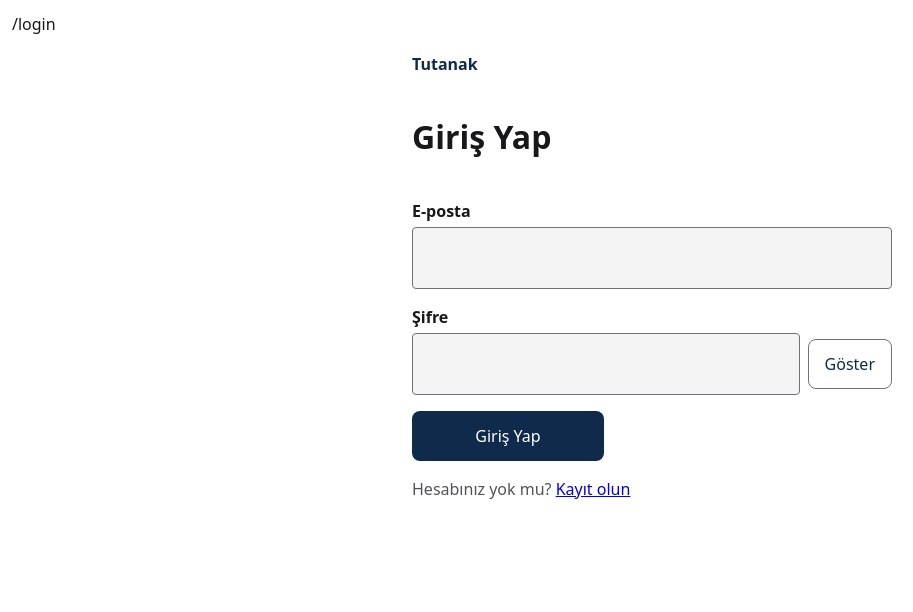
Scenario: LoginPage › hata durumlari (kriter 3-4) › 401 INVALID_CREDENTIALS icin form-genel banner gosterir
The width and height of the screenshot is (913, 612).
Type "selin@ornek.com" into the field labelled "E-posta". click: (652, 258)
box: top-left (412, 227), bottom-right (892, 289)
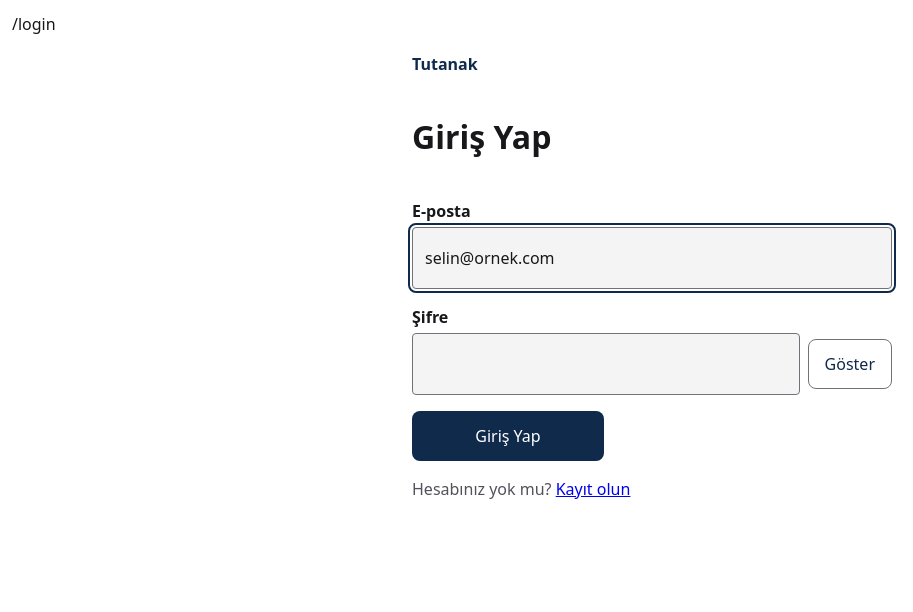
Type "cok-gizli-8" into the password field labelled "Şifre". click: (606, 364)
box: top-left (412, 333), bottom-right (800, 395)
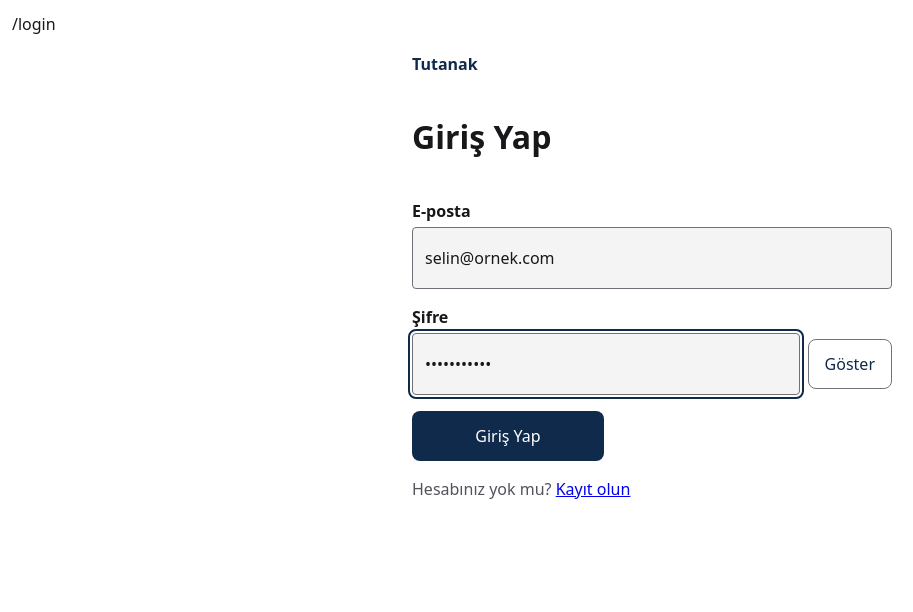
Click the button "Giriş Yap". click: (508, 436)
box: top-left (412, 411), bottom-right (604, 461)
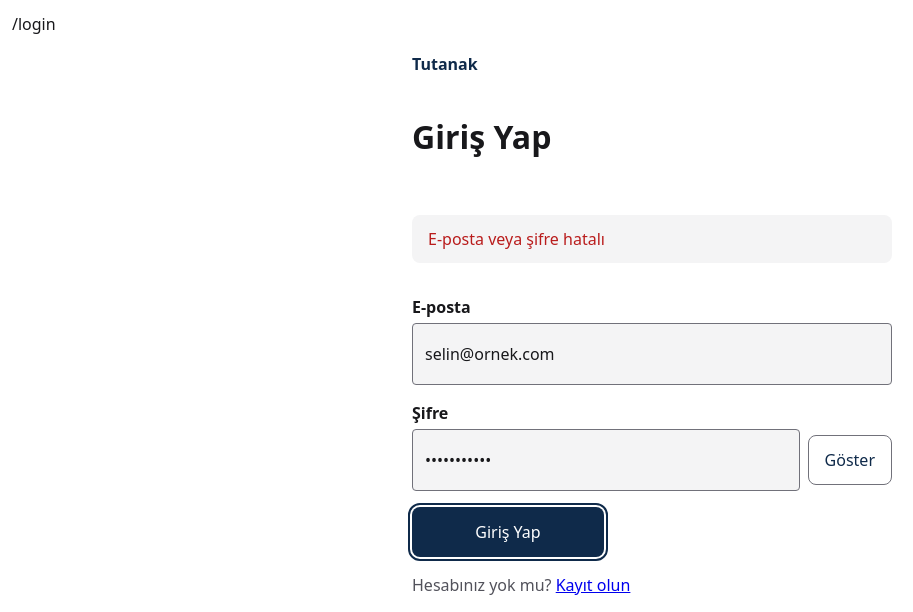
Expected: the message reads "E-posta veya şifre hatalı", top-left (428, 228), bottom-right (605, 250)
